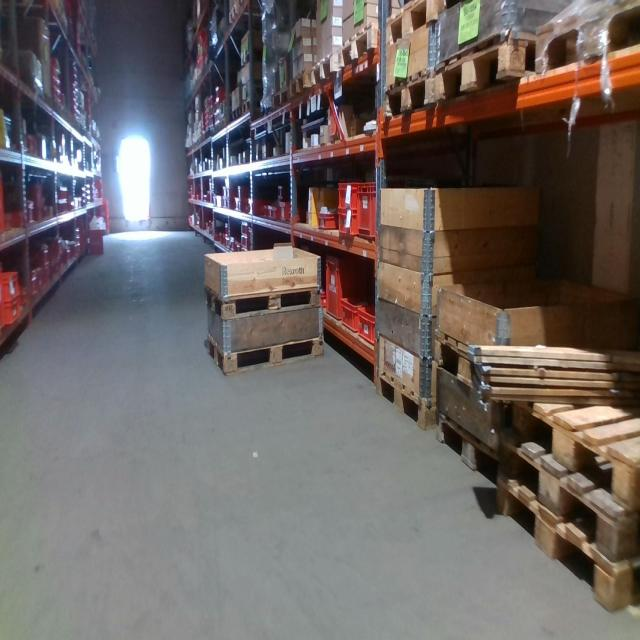pallet: (499, 489, 639, 614), (503, 440, 635, 556), (512, 408, 637, 485), (531, 3, 640, 75), (434, 27, 534, 101), (203, 324, 326, 375), (433, 411, 502, 491), (204, 277, 322, 320), (433, 331, 506, 398), (374, 367, 435, 429), (383, 1, 444, 49), (383, 69, 433, 123), (338, 21, 382, 73), (310, 48, 339, 89), (290, 66, 311, 101), (238, 47, 270, 66), (272, 81, 290, 111), (241, 95, 257, 118), (229, 1, 240, 23), (237, 0, 252, 16), (230, 103, 243, 119)
small_load_carrier: (327, 258, 374, 322), (358, 181, 380, 242), (343, 295, 377, 331), (358, 307, 375, 346), (338, 208, 360, 237), (338, 184, 360, 211), (279, 202, 306, 223), (1, 270, 18, 300), (3, 296, 19, 326), (319, 211, 337, 232), (87, 227, 101, 253), (31, 270, 36, 297), (319, 292, 326, 309)
